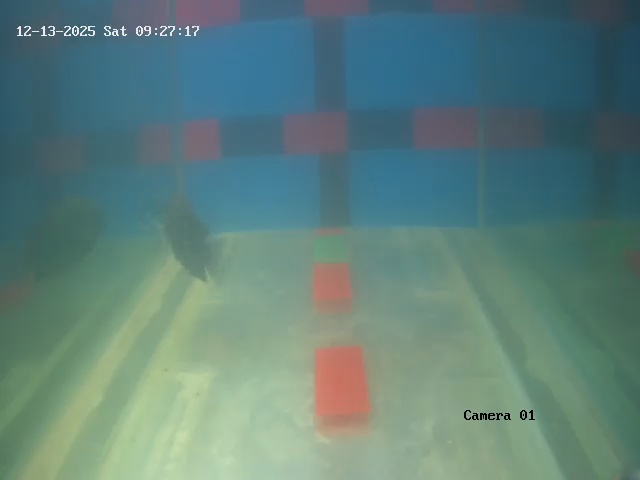fish: (138, 190, 243, 280)
